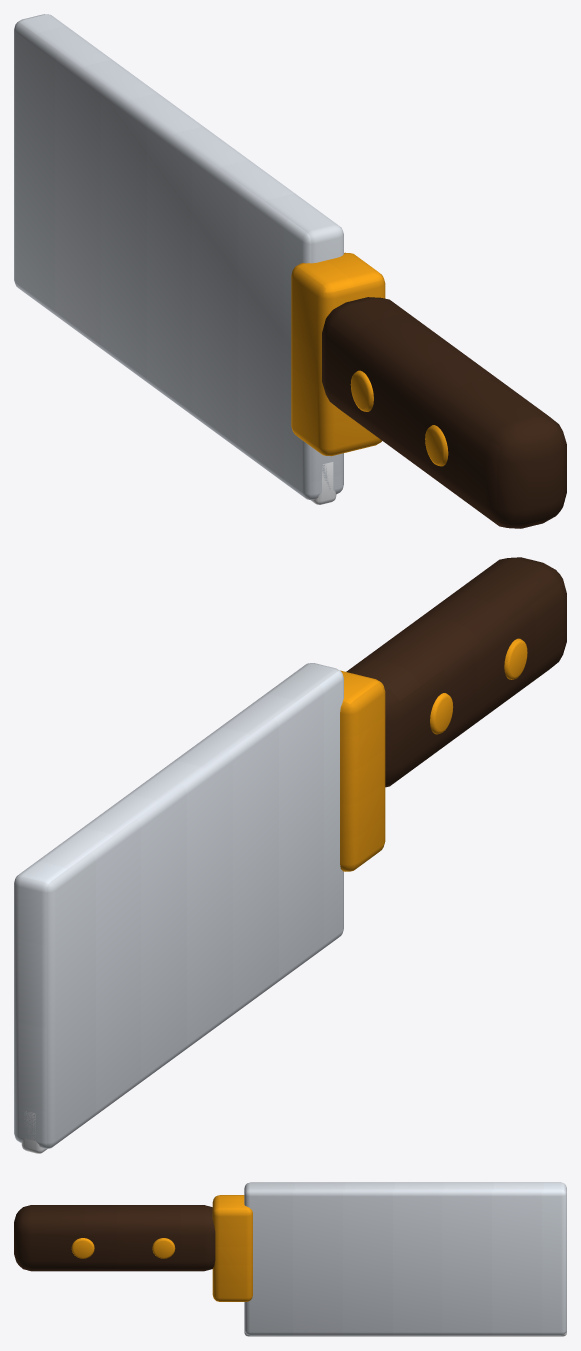
File: cooking-knife.glb
3 views of the same model, one above another, from view 1: azimuth 30°, elevation 25°; view 2: azimuth 150°, elevation 25°; view 3: azimuth 270°, elevation 25° (orthographic). The views are drawn at different scales.
Parts seen in each view (by area): view 1: CleaverBlade, CleaverHandle, CleaverBolster, CleaverRivet2, CleaverRivet1; view 2: CleaverBlade, CleaverHandle, CleaverBolster, CleaverRivet2, CleaverRivet1; view 3: CleaverBlade, CleaverHandle, CleaverBolster, CleaverSharpEdge, CleaverRivet2, CleaverRivet1.
Boxes of the visible parts, x1,y1,x2,y2 form: CleaverBlade: (14,14,343,499); CleaverHandle: (322,297,566,528); CleaverBolster: (291,252,385,456); CleaverRivet2: (425,425,448,466); CleaverRivet1: (350,370,373,411); CleaverBlade: (14,663,343,1148); CleaverHandle: (346,557,566,787); CleaverBolster: (340,670,385,871); CleaverRivet2: (504,638,527,679); CleaverRivet1: (430,693,453,734); CleaverBlade: (244,1182,566,1335); CleaverHandle: (14,1205,215,1271); CleaverBolster: (212,1195,252,1301); CleaverSharpEdge: (244,1330,566,1336); CleaverRivet2: (71,1238,94,1258); CleaverRivet1: (152,1238,175,1258).
Bounding box in the file's own units: 0.046 × 0.1425 × 0.48.
4 materials, 4 textured.
